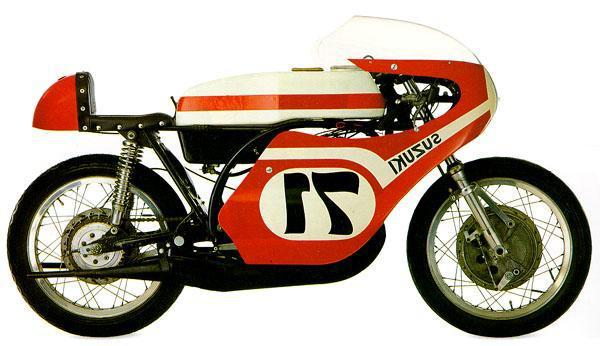motorcycle: (1, 25, 600, 346)
